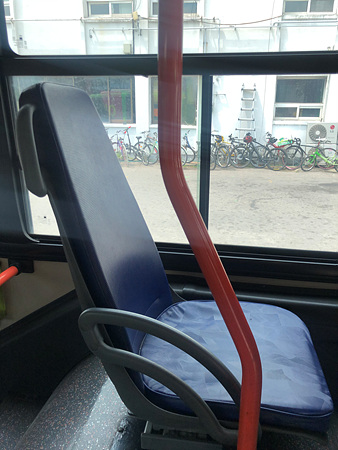seat: (25, 84, 328, 432)
